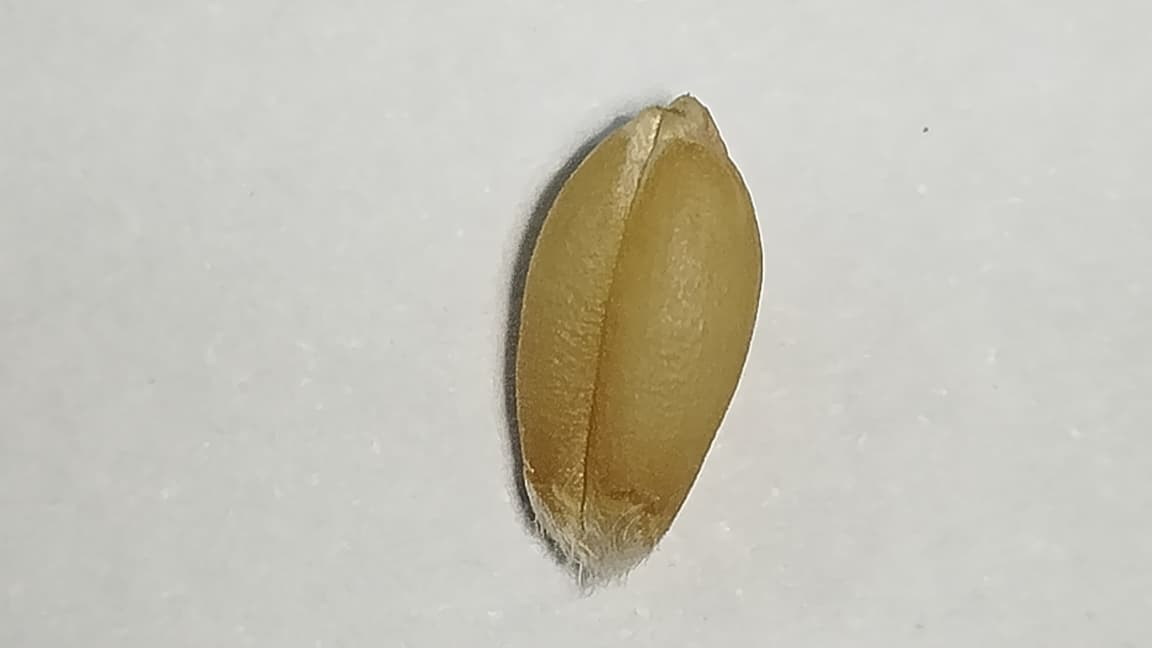healthy: (515, 94, 762, 579)
